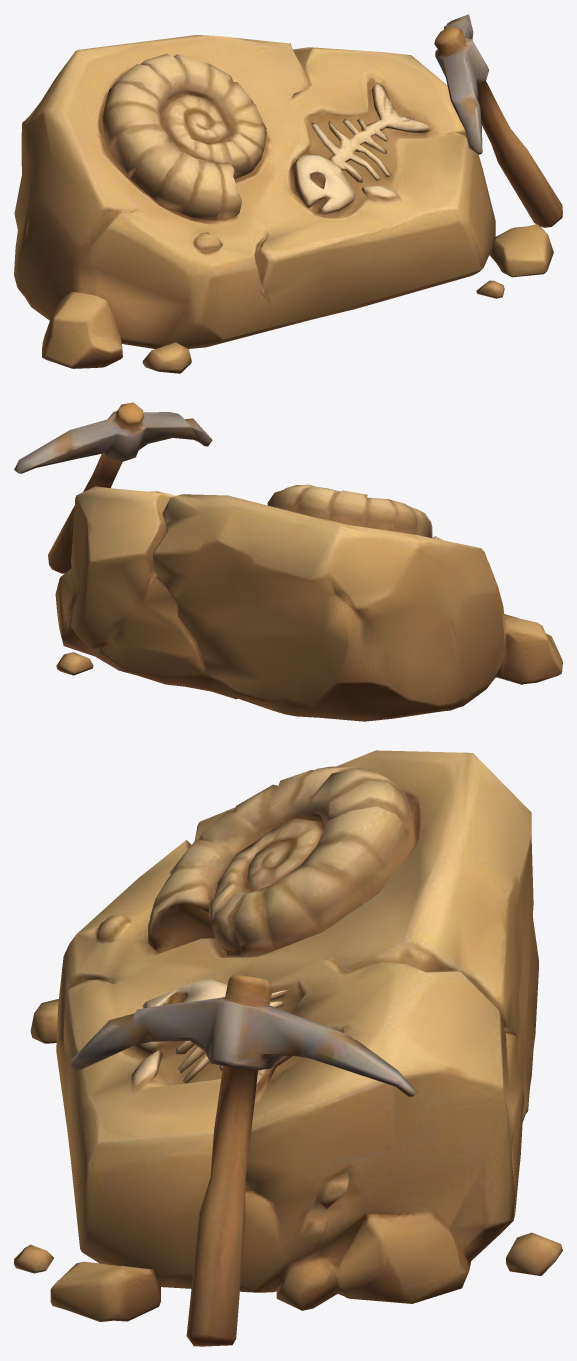
The model's file is fossil.glb.
3 views of the same model, one above another, from view 1: azimuth 30°, elevation 25°; view 2: azimuth 150°, elevation 25°; view 3: azimuth 270°, elevation 25° (orthographic). The views are drawn at different scales.
Visible parts, largest first — view 1: fossil; view 2: fossil; view 3: fossil.
Boxes of the visible parts, <box> form: fossil: <box>14,14,562,373</box>; fossil: <box>14,402,562,721</box>; fossil: <box>14,750,562,1346</box>.
Bounding box in the file's own units: 1 × 0.3757 × 0.5851.
Materials: 1 (1 with a texture image).
